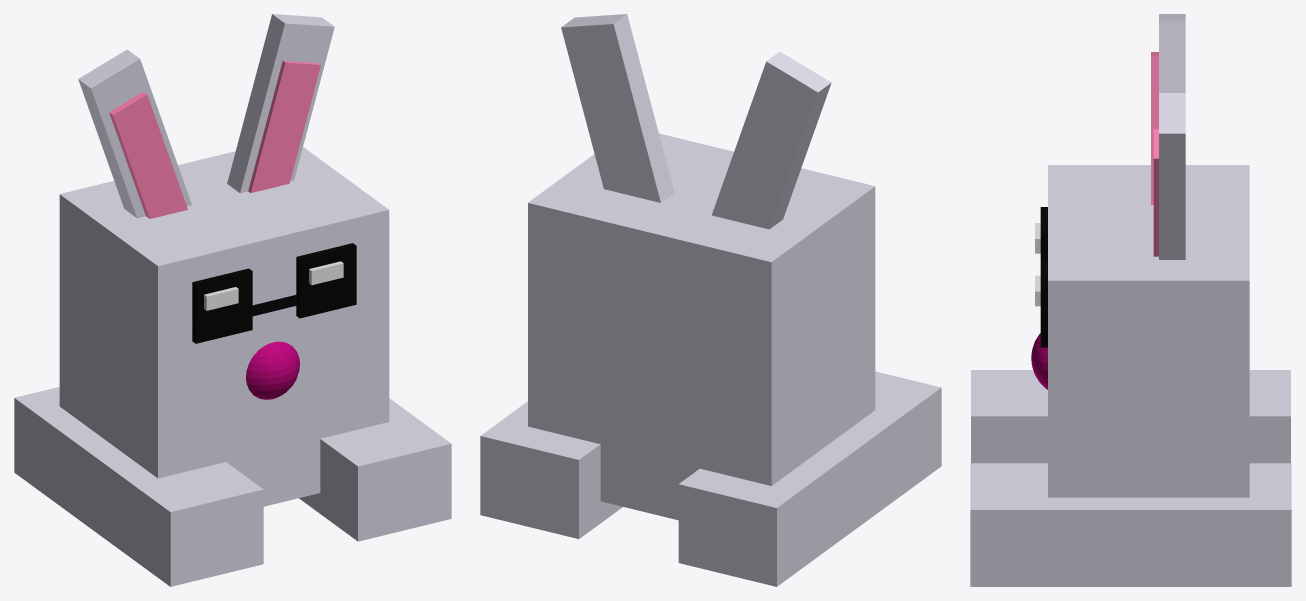
The model's file is bunny.glb.
3 renders of one model, left to right at view 1: azimuth 30°, elevation 25°; view 2: azimuth 150°, elevation 25°; view 3: azimuth 270°, elevation 25°, orthographic. The views are drawn at different scales.
Parts seen in each view (by area): view 1: Bunny; view 2: Bunny; view 3: Bunny.
Part boxes in pixels (x1,y1,x2,y2): Bunny: (14,14,451,586); Bunny: (480,14,941,586); Bunny: (970,14,1291,586).
Bounding box in the file's own units: 2.43 × 3.69 × 2.35.
